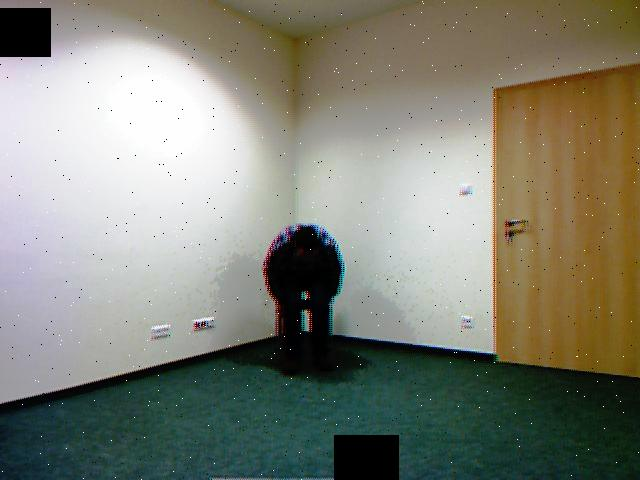bending: (257, 208, 359, 390)
